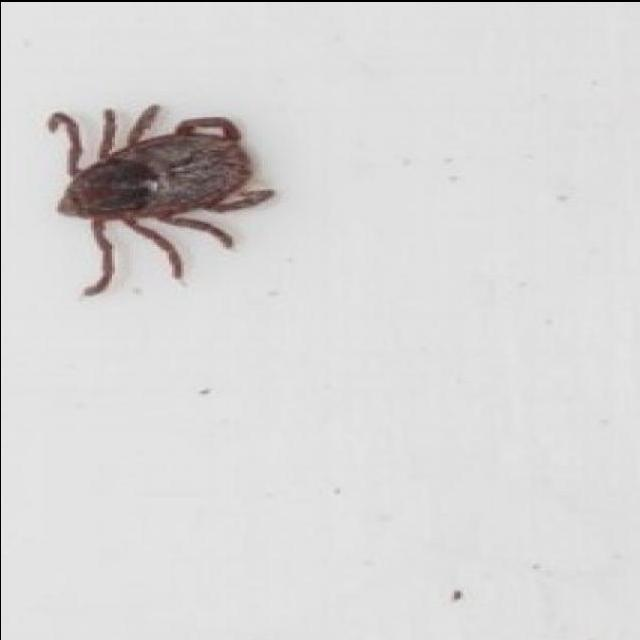Rhipicephalus Sanguineus-F: (42, 102, 270, 295)
